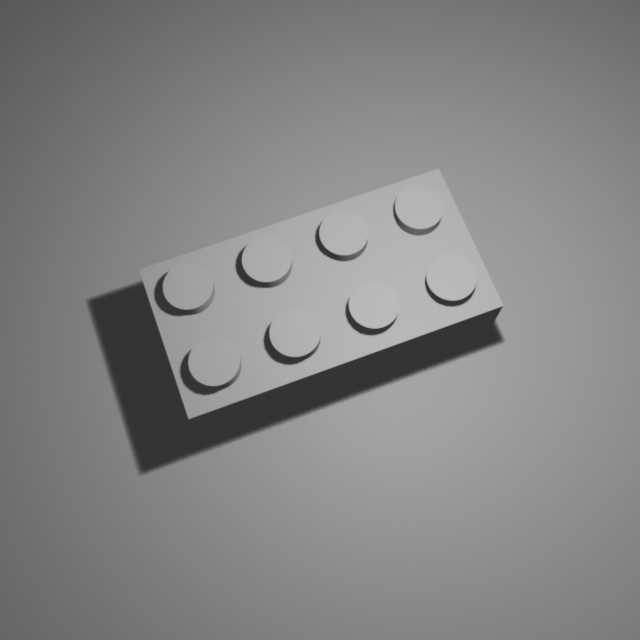lego_2x4: (136, 161, 507, 440)
